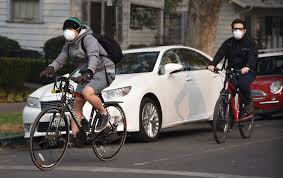mask: (231, 18, 246, 41), (60, 23, 78, 42)
